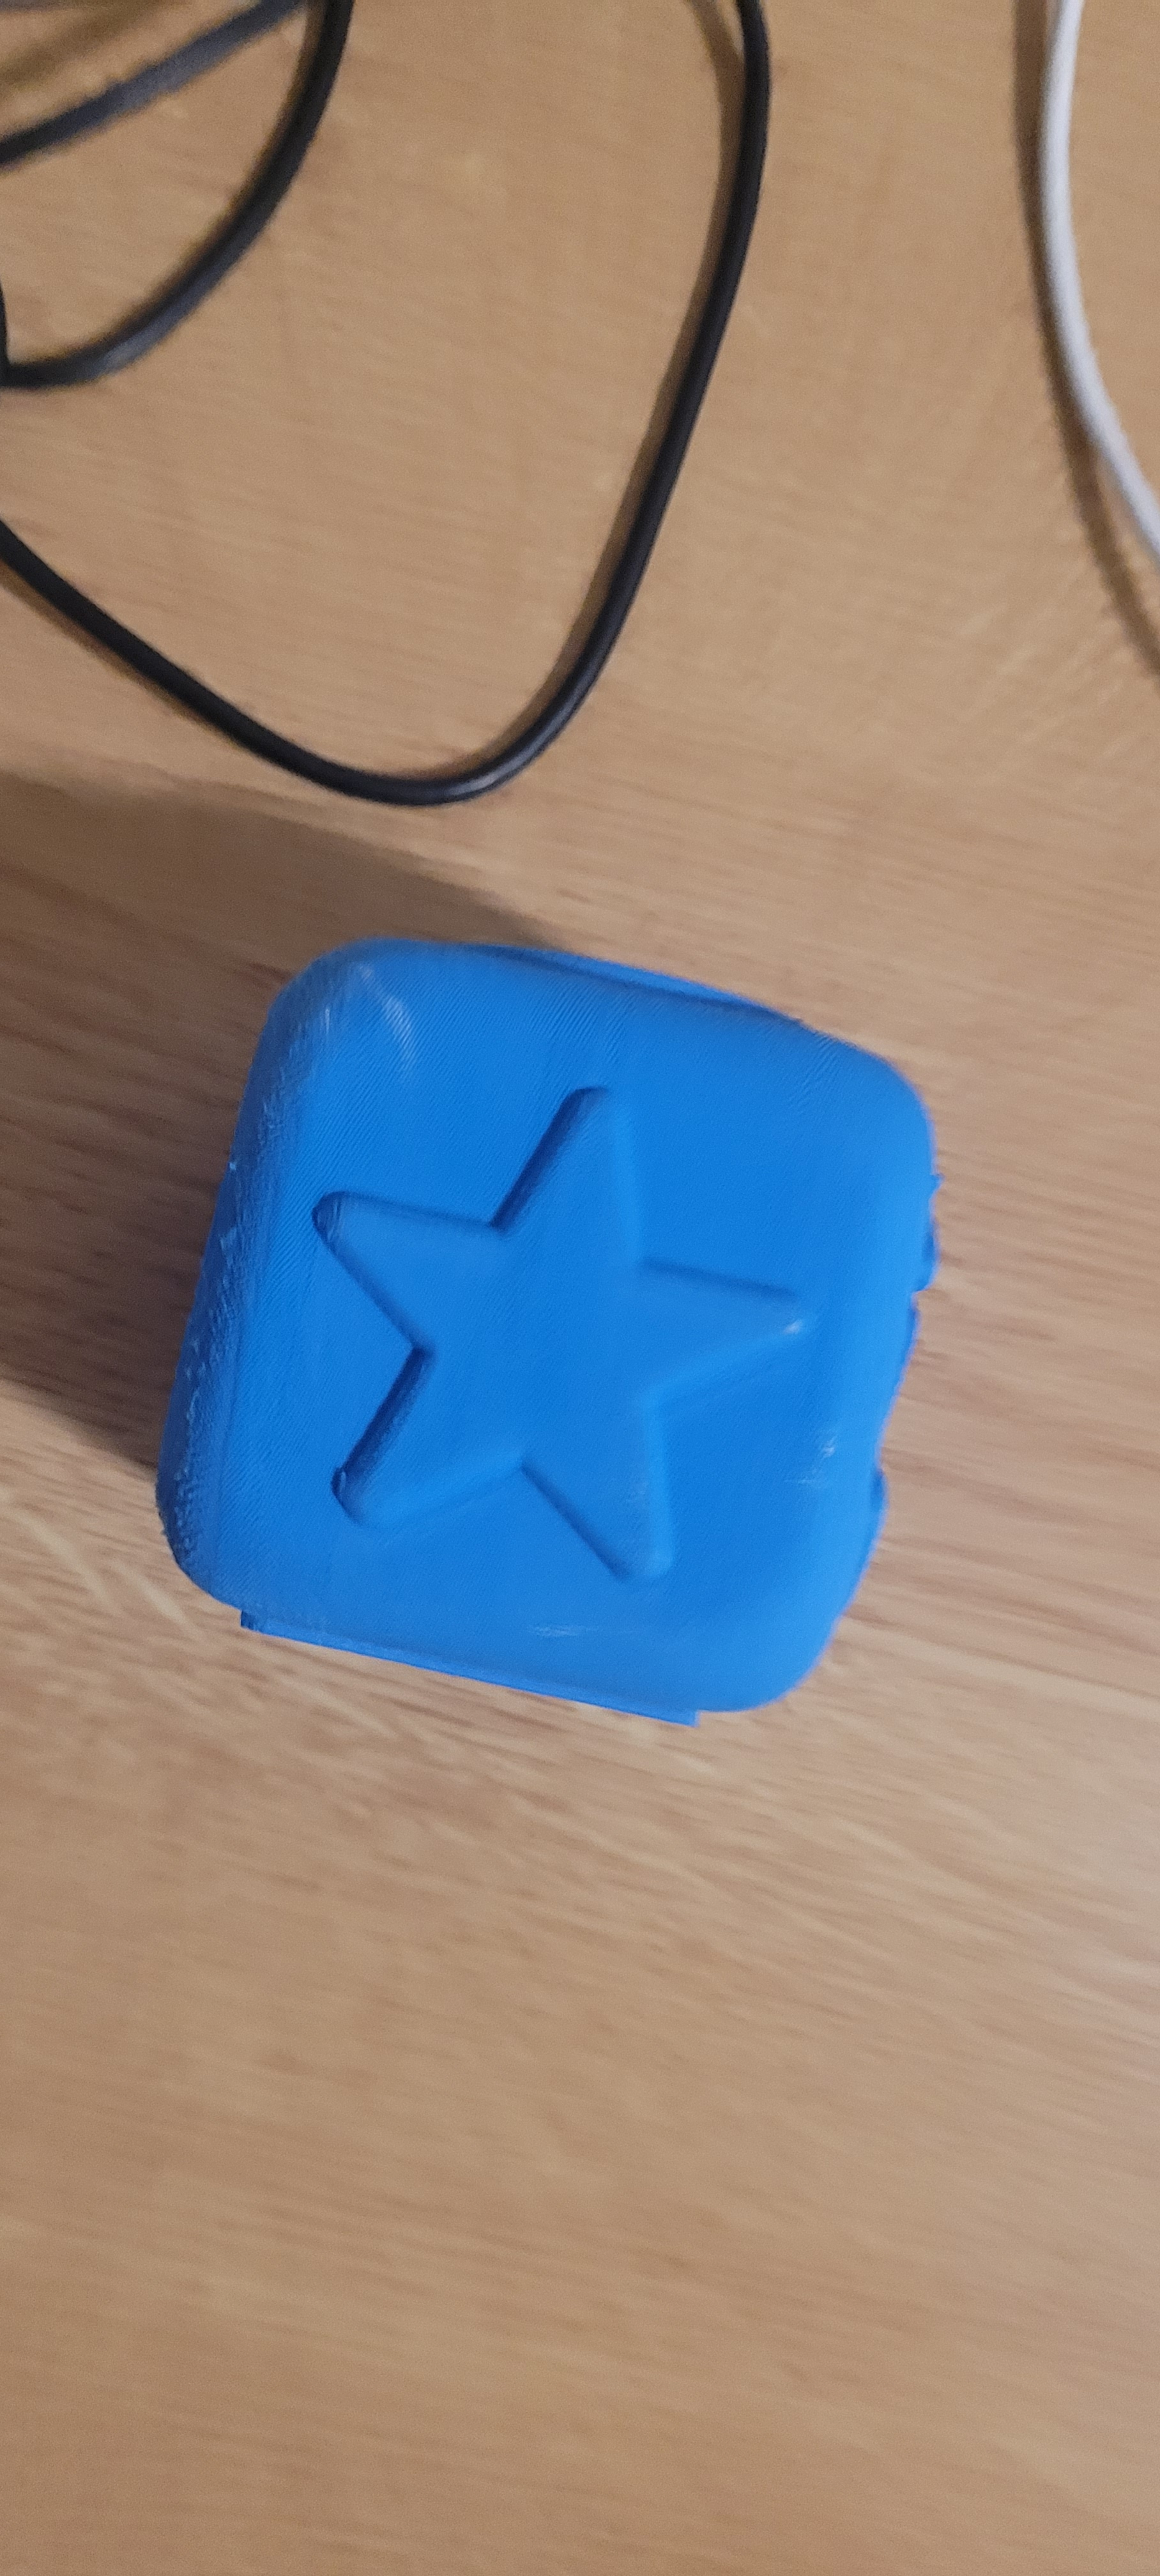Star: (245, 923, 917, 1598)
